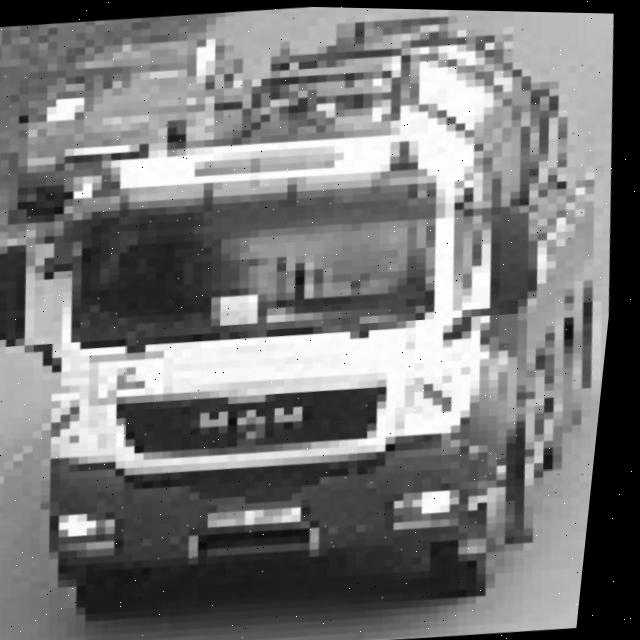truck: (1, 85, 574, 629)
